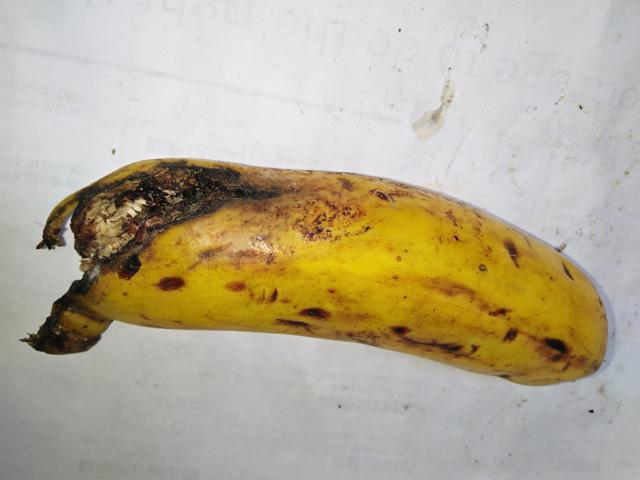ripe: (25, 133, 610, 395)
rotten: (23, 133, 251, 267)
